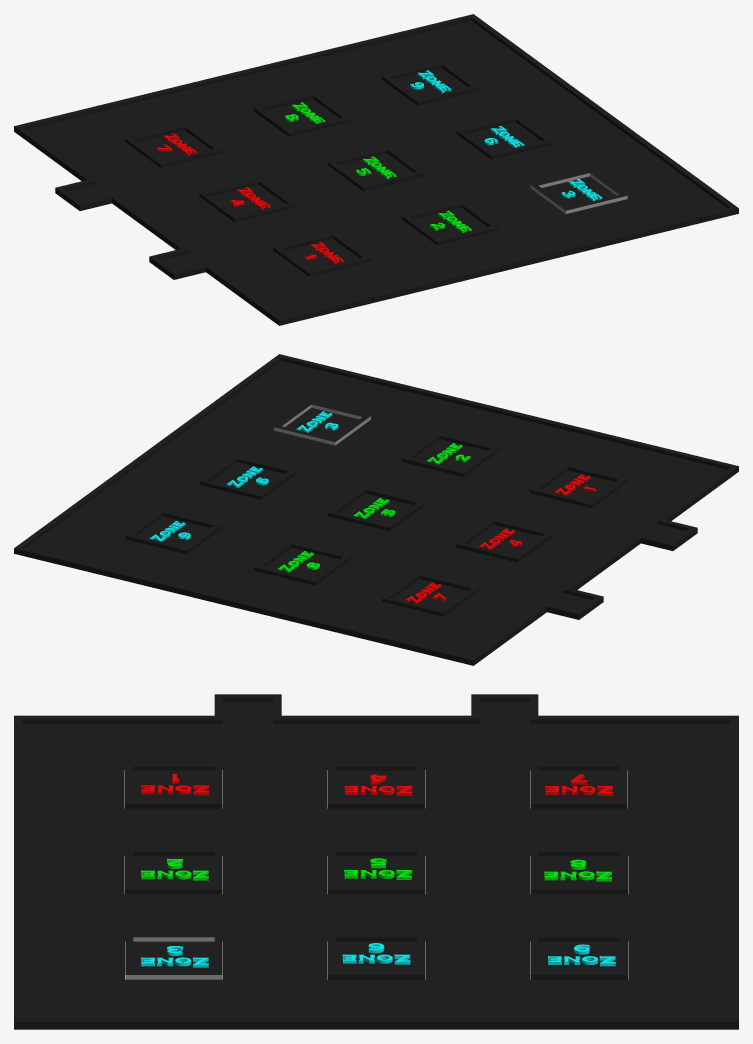
File: SimWarehouse.dae
The picture shows the model from 3 angles, top to bottom: view 1: azimuth 30°, elevation 25°; view 2: azimuth 150°, elevation 25°; view 3: azimuth 270°, elevation 25°; orthographic projection. The views are drawn at different scales.
Visible parts, largest first — view 1: Outer_Wall_Paint_-_Metal_Flake_(Black) (×2), Wall_1_Paint_-_Metal_Flake_(Black) (×2), Wall_8_Paint_-_Metal_Flake_(Black) (×2), Wall_4_Paint_-_Metal_Flake_(Black) (×2), Wall_9_Paint_-_Metal_Flake_(Black) (×2), Wall_2_Paint_-_Metal_Flake_(Black) (×2), Wall_5_Paint_-_Metal_Flake_(Black) (×2), Wall_7_Paint_-_Metal_Flake_(Black) (×2), Wall_6_Paint_-_Metal_Flake_(Black) (×2), Wall_3_Paint_-_Metal_Flake_(Black) (×2), Wall_3_Steel_-_Satin; view 2: Outer_Wall_Paint_-_Metal_Flake_(Black) (×2), Wall_1_Paint_-_Metal_Flake_(Black) (×2), Wall_4_Paint_-_Metal_Flake_(Black) (×2), Wall_2_Paint_-_Metal_Flake_(Black) (×2), Wall_9_Paint_-_Metal_Flake_(Black) (×2), Wall_5_Paint_-_Metal_Flake_(Black) (×2), Wall_8_Paint_-_Metal_Flake_(Black) (×2), Wall_7_Paint_-_Metal_Flake_(Black) (×2), Wall_6_Paint_-_Metal_Flake_(Black) (×2), Wall_3_Paint_-_Metal_Flake_(Black) (×2), Wall_3_Steel_-_Satin; view 3: Outer_Wall_Paint_-_Metal_Flake_(Black) (×2), Wall_1_Paint_-_Metal_Flake_(Black) (×2), Wall_9_Paint_-_Metal_Flake_(Black) (×2), Wall_4_Paint_-_Metal_Flake_(Black) (×2), Wall_8_Paint_-_Metal_Flake_(Black) (×2), Wall_2_Paint_-_Metal_Flake_(Black) (×2), Wall_7_Paint_-_Metal_Flake_(Black) (×2), Wall_5_Paint_-_Metal_Flake_(Black) (×2), Wall_6_Paint_-_Metal_Flake_(Black) (×2), Wall_3_Paint_-_Metal_Flake_(Black) (×2), Wall_3_Steel_-_Satin.
Part boxes in pixels (x1,y1,x2,y2): Outer_Wall_Paint_-_Metal_Flake_(Black) (×2): [14, 14, 738, 325]; Wall_1_Paint_-_Metal_Flake_(Black) (×2): [273, 232, 371, 276]; Wall_8_Paint_-_Metal_Flake_(Black) (×2): [253, 92, 351, 136]; Wall_4_Paint_-_Metal_Flake_(Black) (×2): [199, 178, 296, 222]; Wall_9_Paint_-_Metal_Flake_(Black) (×2): [381, 61, 479, 105]; Wall_2_Paint_-_Metal_Flake_(Black) (×2): [401, 201, 499, 245]; Wall_5_Paint_-_Metal_Flake_(Black) (×2): [327, 146, 425, 191]; Wall_7_Paint_-_Metal_Flake_(Black) (×2): [125, 124, 222, 167]; Wall_6_Paint_-_Metal_Flake_(Black) (×2): [456, 115, 553, 159]; Wall_3_Paint_-_Metal_Flake_(Black) (×2): [531, 169, 626, 210]; Wall_3_Steel_-_Satin: [530, 173, 627, 213]; Outer_Wall_Paint_-_Metal_Flake_(Black) (×2): [14, 354, 738, 665]; Wall_1_Paint_-_Metal_Flake_(Black) (×2): [530, 463, 627, 508]; Wall_4_Paint_-_Metal_Flake_(Black) (×2): [456, 518, 553, 562]; Wall_2_Paint_-_Metal_Flake_(Black) (×2): [401, 432, 499, 476]; Wall_9_Paint_-_Metal_Flake_(Black) (×2): [125, 509, 222, 554]; Wall_5_Paint_-_Metal_Flake_(Black) (×2): [327, 486, 425, 531]; Wall_8_Paint_-_Metal_Flake_(Black) (×2): [253, 541, 351, 585]; Wall_7_Paint_-_Metal_Flake_(Black) (×2): [382, 572, 479, 616]; Wall_6_Paint_-_Metal_Flake_(Black) (×2): [199, 455, 296, 499]; Wall_3_Paint_-_Metal_Flake_(Black) (×2): [274, 401, 370, 441]; Wall_3_Steel_-_Satin: [273, 404, 370, 445]; Outer_Wall_Paint_-_Metal_Flake_(Black) (×2): [14, 694, 738, 1029]; Wall_1_Paint_-_Metal_Flake_(Black) (×2): [125, 762, 222, 808]; Wall_9_Paint_-_Metal_Flake_(Black) (×2): [530, 933, 627, 979]; Wall_4_Paint_-_Metal_Flake_(Black) (×2): [327, 762, 425, 808]; Wall_8_Paint_-_Metal_Flake_(Black) (×2): [530, 848, 627, 894]; Wall_2_Paint_-_Metal_Flake_(Black) (×2): [125, 848, 222, 894]; Wall_7_Paint_-_Metal_Flake_(Black) (×2): [530, 763, 627, 808]; Wall_5_Paint_-_Metal_Flake_(Black) (×2): [327, 848, 425, 894]; Wall_6_Paint_-_Metal_Flake_(Black) (×2): [328, 934, 424, 979]; Wall_3_Paint_-_Metal_Flake_(Black) (×2): [125, 934, 222, 974]; Wall_3_Steel_-_Satin: [125, 937, 222, 979].
Bounding box in the file's own units: 2.34 × 2.18 × 0.025.
